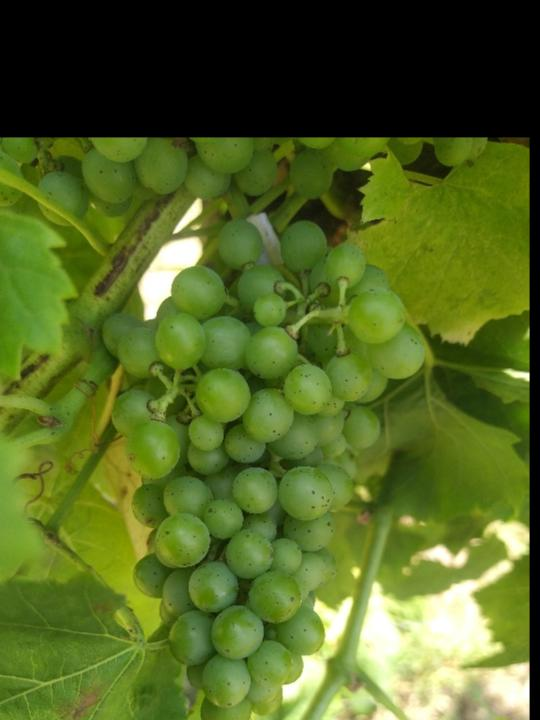grape: (101, 214, 431, 720)
